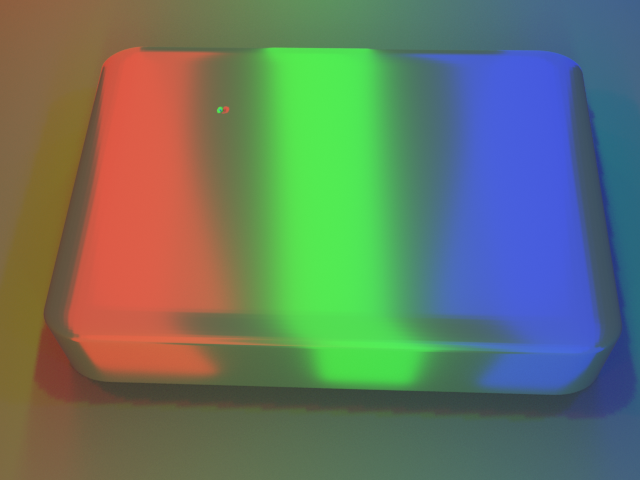dent: (196, 81, 227, 113)
